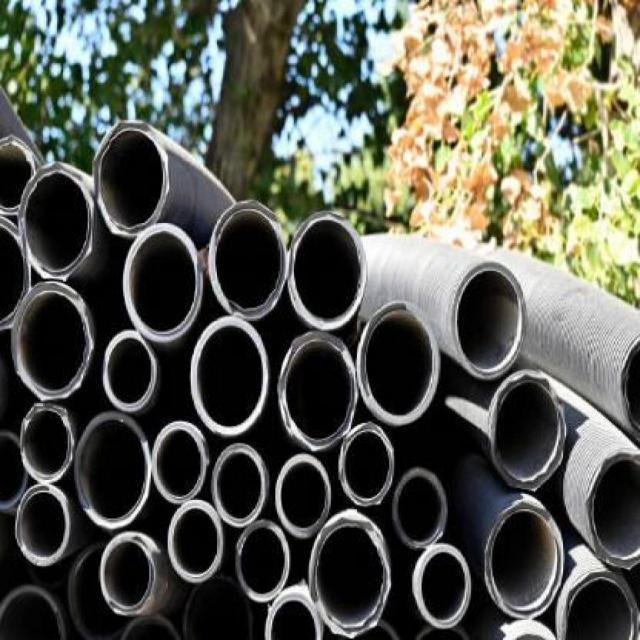pipe: (310, 511, 393, 639), (358, 303, 440, 426), (11, 282, 93, 399), (288, 211, 368, 329), (209, 199, 288, 318), (123, 225, 202, 344), (190, 316, 269, 435), (278, 332, 358, 449), (484, 503, 564, 619), (18, 161, 95, 281), (451, 262, 528, 379), (75, 413, 152, 529), (490, 376, 567, 490), (95, 120, 169, 236), (585, 452, 639, 571), (559, 572, 639, 639), (179, 575, 258, 640), (338, 422, 395, 505), (99, 534, 156, 616), (211, 443, 267, 526), (276, 453, 330, 538), (416, 545, 471, 628), (102, 332, 158, 412), (15, 485, 69, 567), (169, 501, 223, 583), (236, 520, 290, 601), (152, 423, 206, 503), (393, 468, 447, 547), (20, 403, 74, 481), (0, 581, 71, 640), (0, 211, 32, 334), (265, 582, 324, 639), (0, 134, 37, 216), (0, 431, 31, 509), (122, 604, 176, 640)
